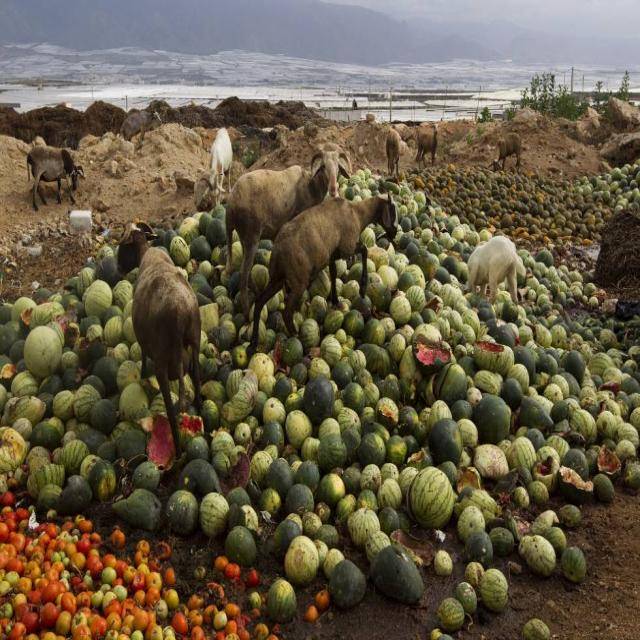food_waste: (217, 306, 616, 527), (6, 376, 247, 640), (21, 278, 107, 606), (417, 212, 460, 541), (414, 174, 612, 232)
